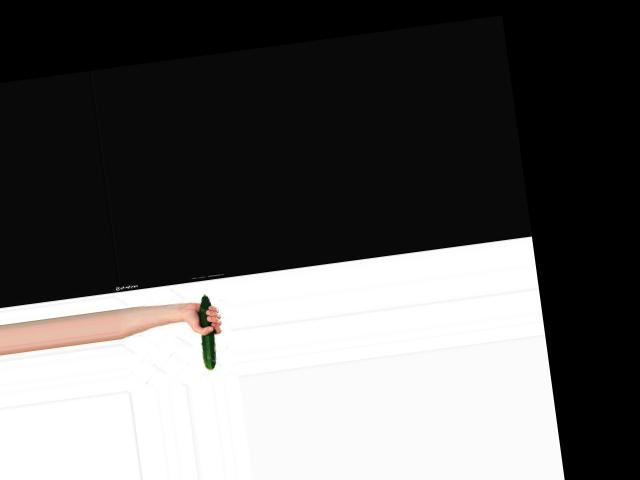cucumber: (195, 293, 220, 370)
